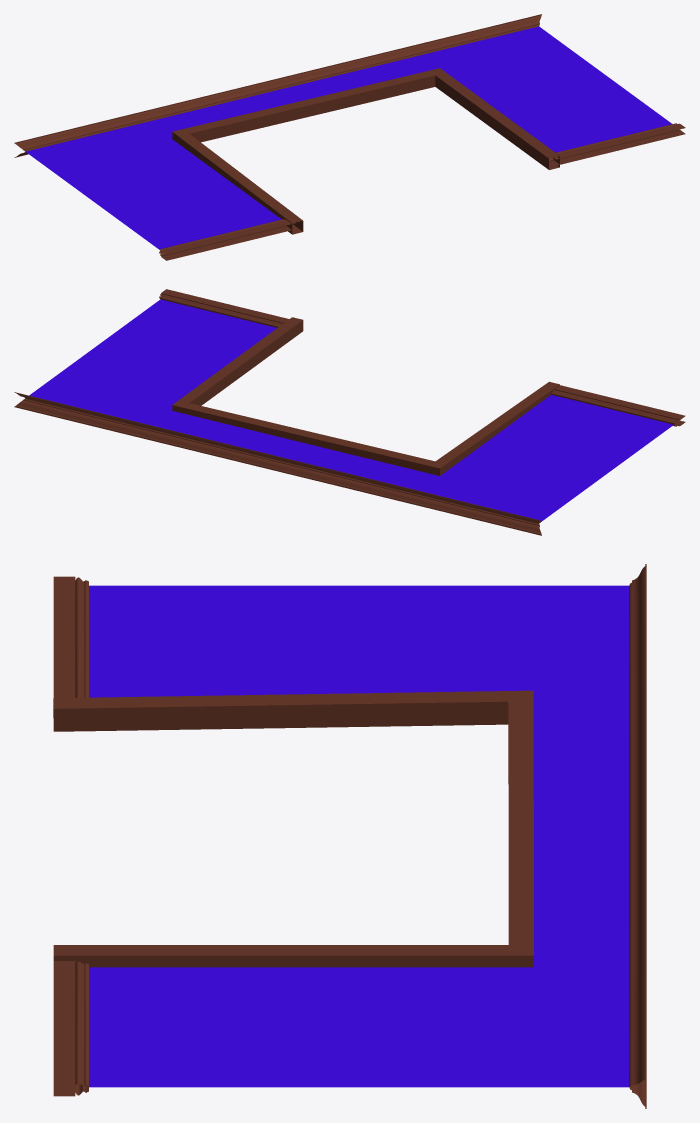
Rendered from WideDoor.dae.
3 renders of one model, top to bottom at view 1: azimuth 30°, elevation 25°; view 2: azimuth 150°, elevation 25°; view 3: azimuth 270°, elevation 25°, orthographic. The views are drawn at different scales.
Visible parts, largest first — view 1: TrickWall; view 2: TrickWall; view 3: TrickWall.
Boxes of the visible parts, <box> form: TrickWall: <box>14,14,685,260</box>; TrickWall: <box>14,289,685,535</box>; TrickWall: <box>53,564,646,1108</box>.
Size of the model in its own units: 6.16 by 3 by 0.1704.
